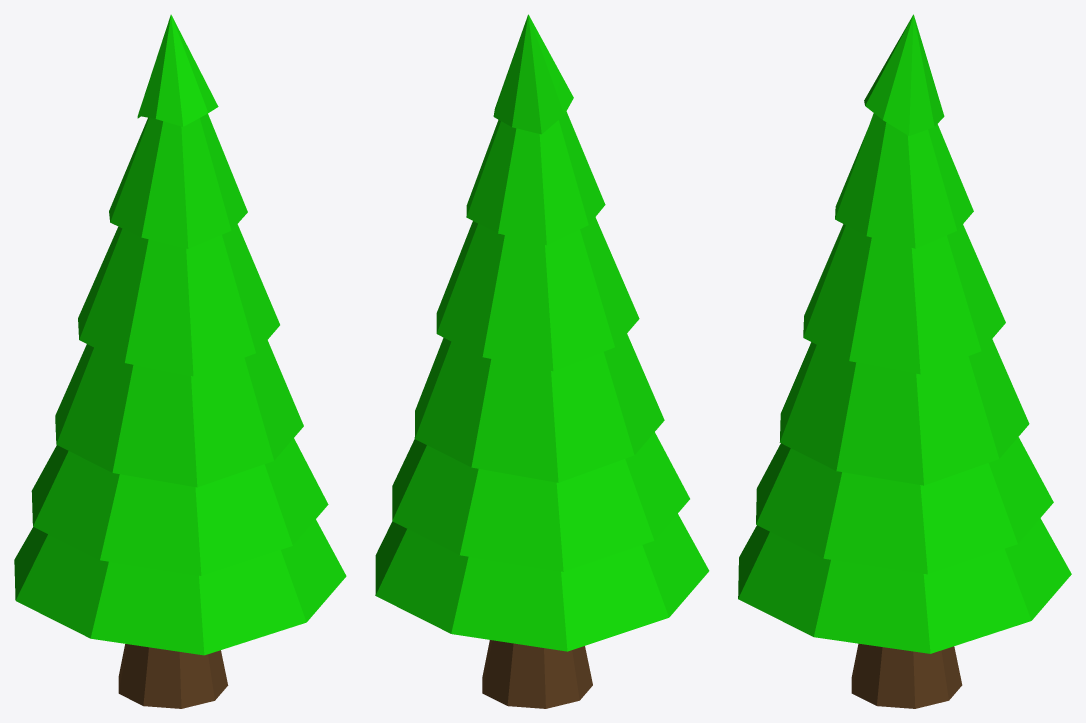
File: AGAC_2.0.fbx
The picture shows the model from 3 angles, left to right: view 1: azimuth 30°, elevation 25°; view 2: azimuth 150°, elevation 25°; view 3: azimuth 270°, elevation 25°; orthographic projection.
Visible parts, largest first — view 1: Circle; view 2: Circle; view 3: Circle.
Part boxes in pixels (x1=…): Circle: x1=14, y1=14, x2=346, y2=708; Circle: x1=375, y1=14, x2=709, y2=708; Circle: x1=738, y1=14, x2=1071, y2=708.
Bounding box in the file's own units: 95.2 × 209 × 93.98.
